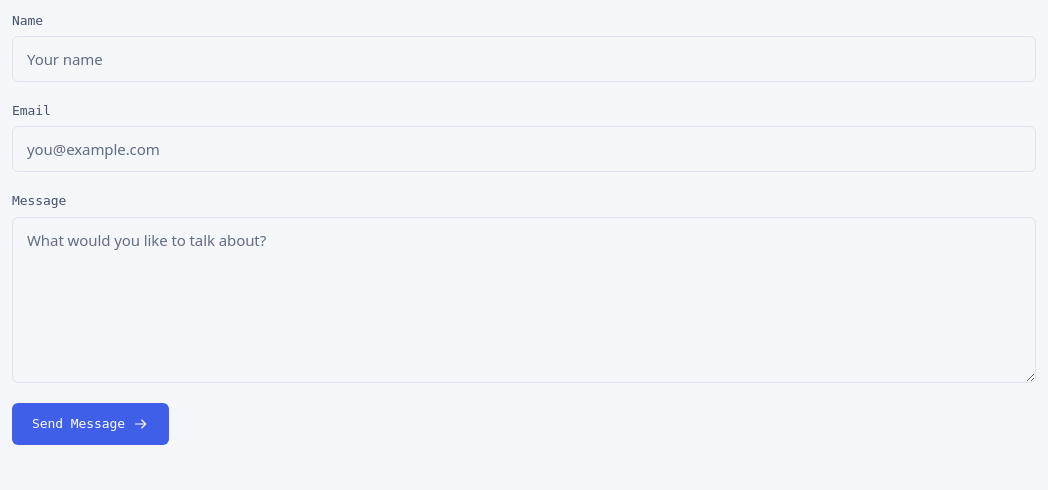
Scenario: ContactForm › reports a network failure without claiming success
Type "Ada Lovelace" into the field labelled "Name" at x=524, y=59, box [12, 36, 1036, 82]
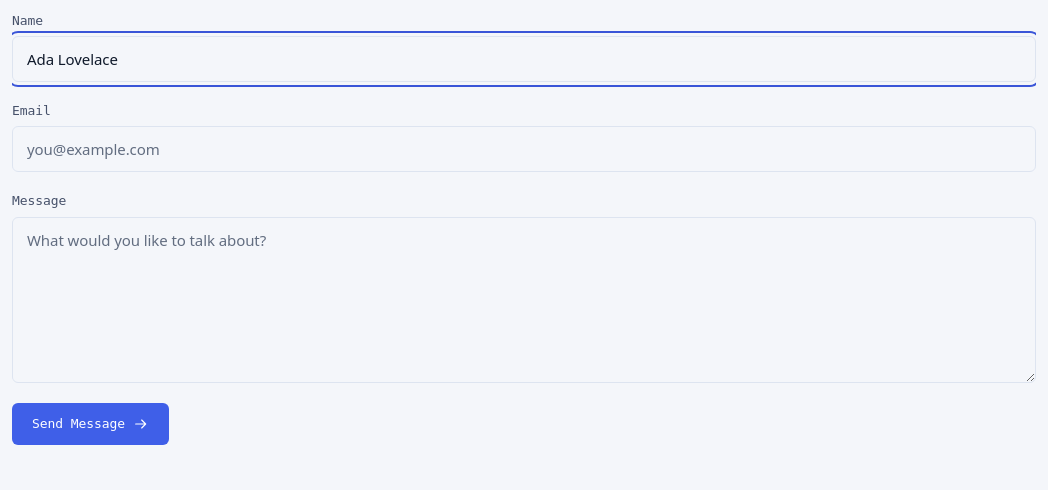
Type "ada@example.com" into the field labelled "Email" at x=524, y=149, box [12, 126, 1036, 172]
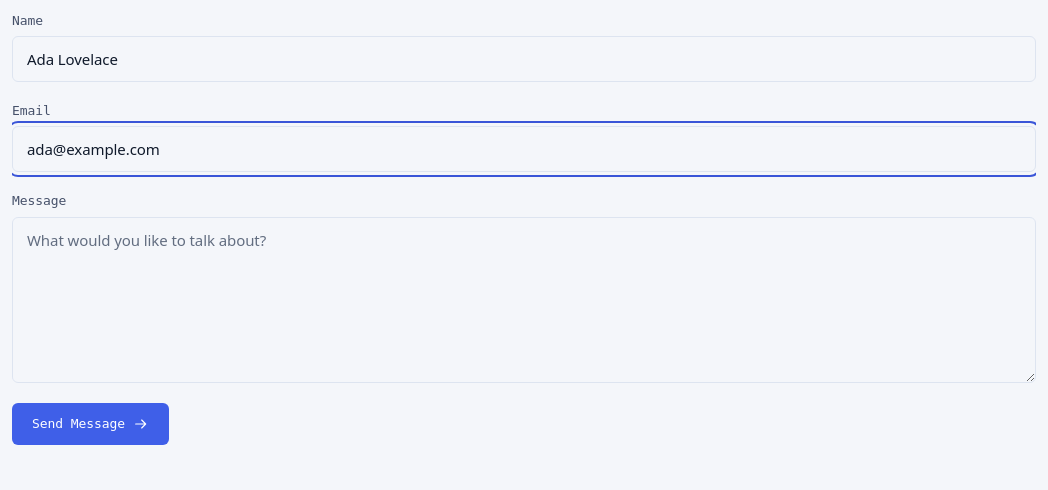
Type "Hello from the tests." into the text box labelled "Message" at x=524, y=300, box [12, 217, 1036, 383]
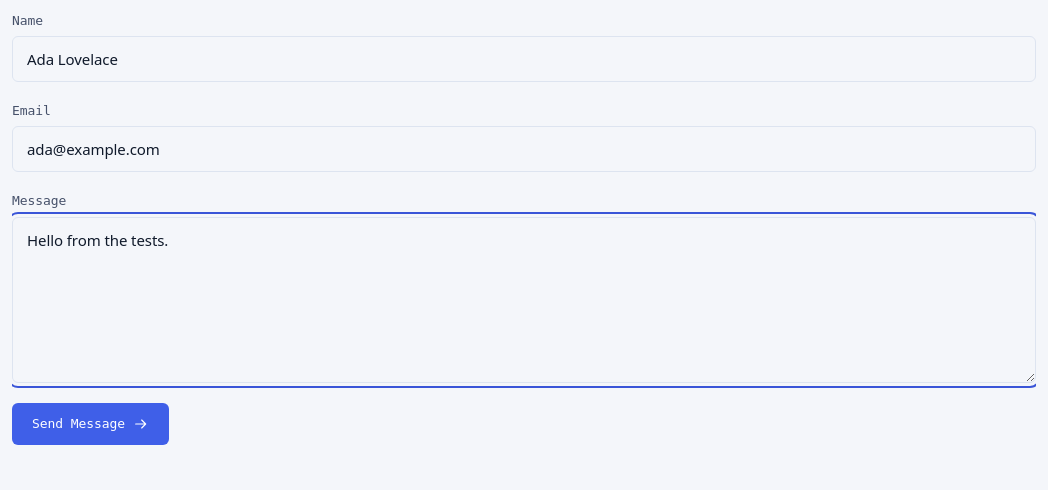
Click the button "Send Message" at x=90, y=424, box [12, 403, 169, 445]
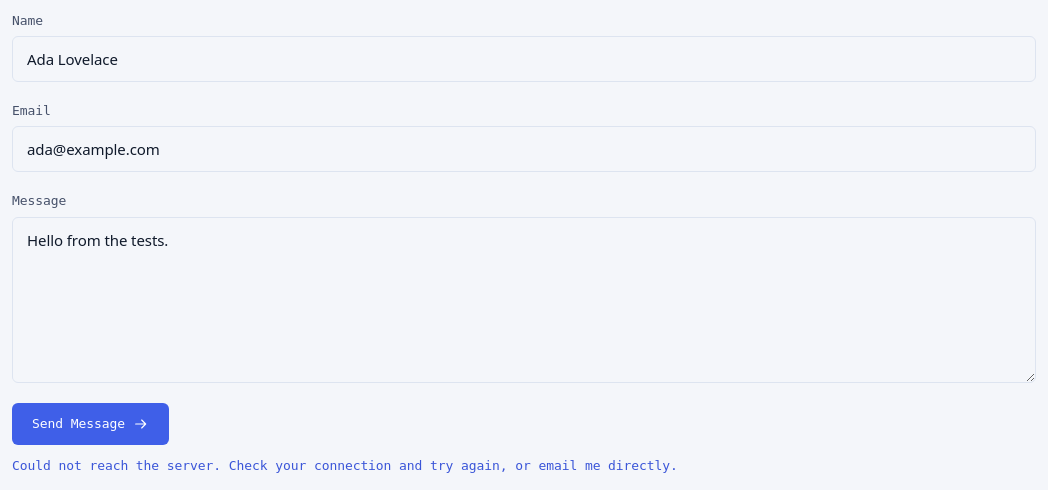
Check: the text "Could not reach the server" is shown, box [12, 458, 678, 473]
